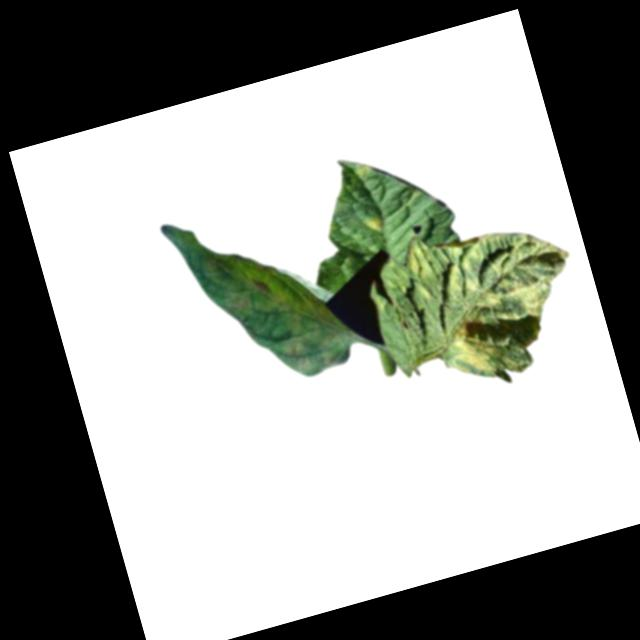Leaf_Mold: (399, 202, 592, 402), (268, 264, 353, 381), (361, 210, 388, 236)
